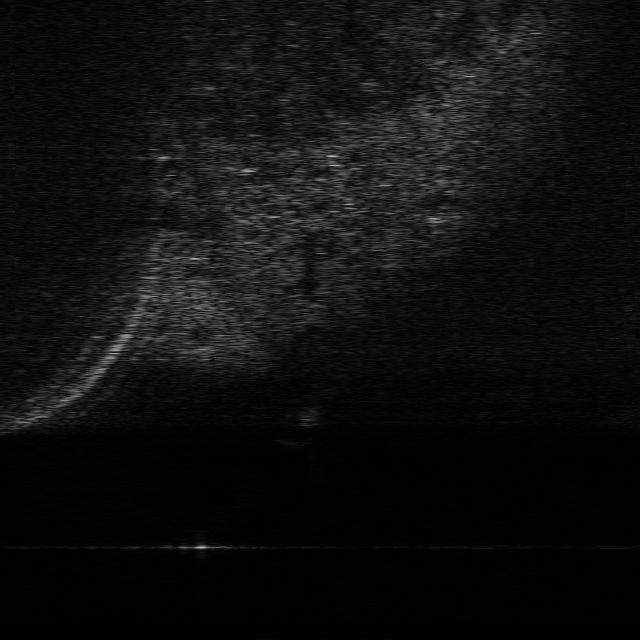cube: (274, 437, 316, 449)
cylinder: (295, 404, 324, 426)
